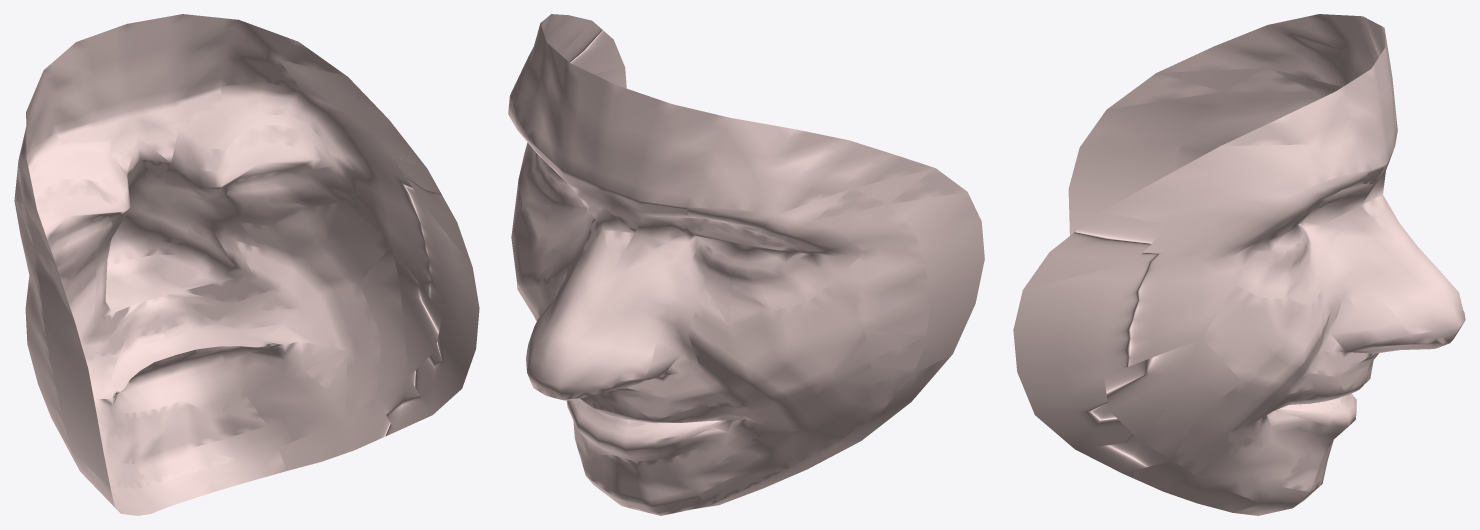
3 renders of one model, left to right at view 1: azimuth 30°, elevation 25°; view 2: azimuth 150°, elevation 25°; view 3: azimuth 270°, elevation 25°, orthographic. The views are drawn at different scales.
Parts seen in each view (by area): view 1: Face; view 2: Face; view 3: Face.
Boxes of the visible parts, bbox=[...] form: Face: bbox=[14, 14, 479, 515]; Face: bbox=[508, 14, 984, 515]; Face: bbox=[1013, 14, 1465, 515].
Bounding box in the file's own units: 0.193 × 0.22 × 0.201.
